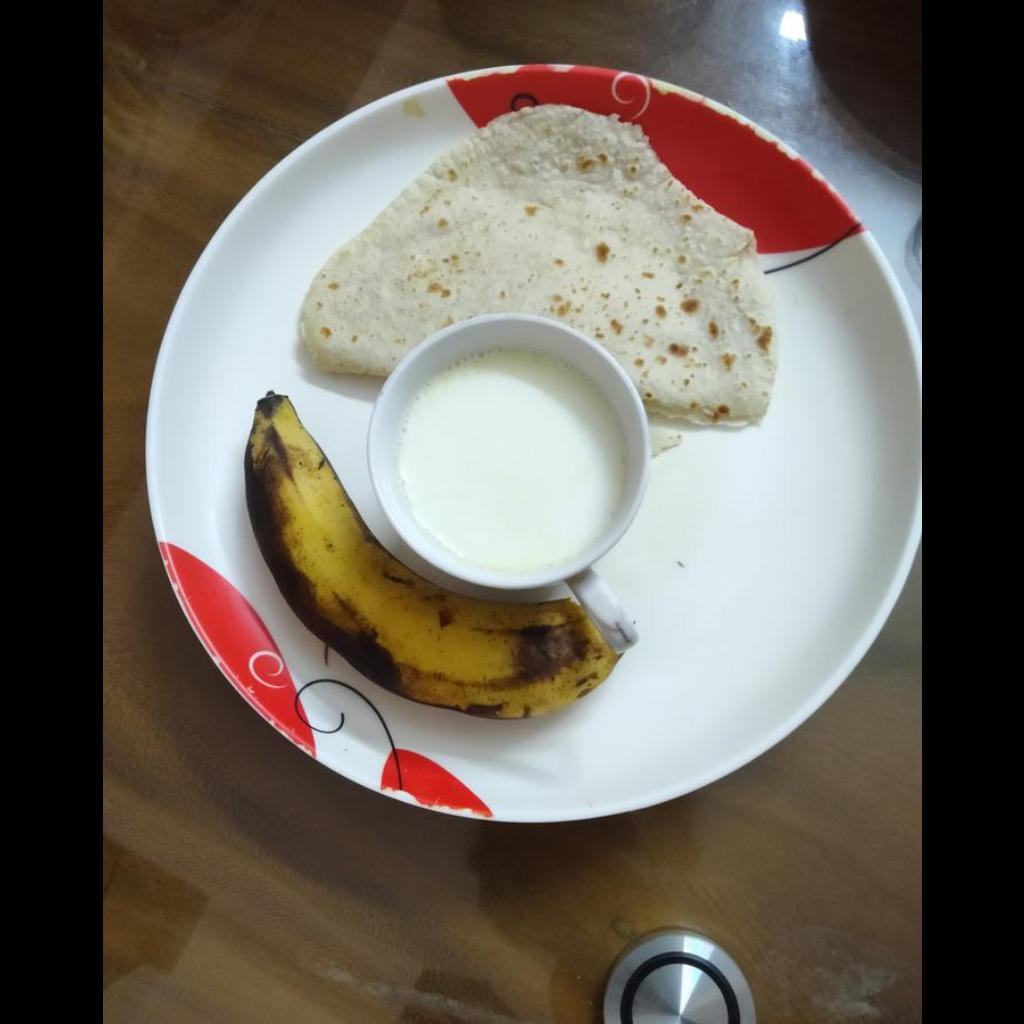banana: (243, 386, 625, 722)
milk: (401, 350, 627, 575)
ruti: (294, 102, 776, 421)
